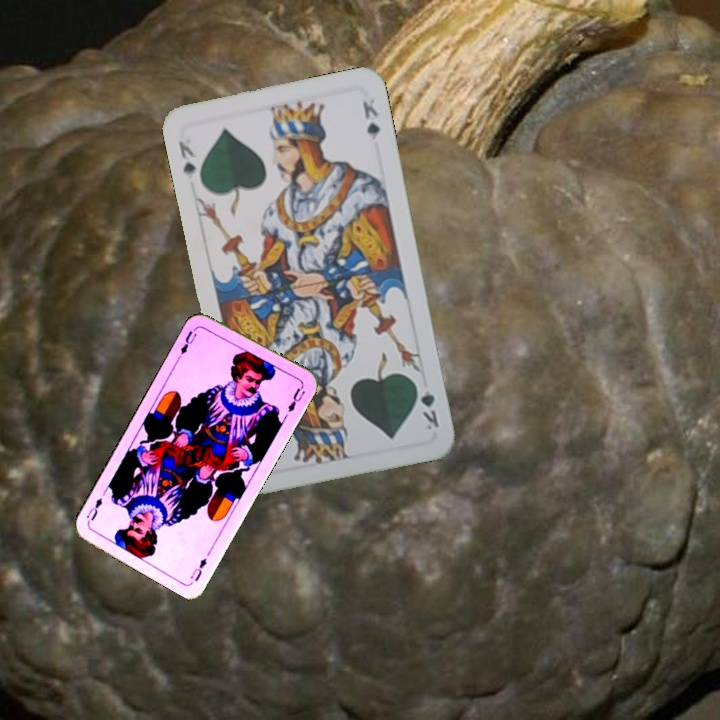EU: (175, 323, 201, 360), (186, 554, 209, 584)
GK: (411, 377, 442, 433), (174, 136, 199, 179)
